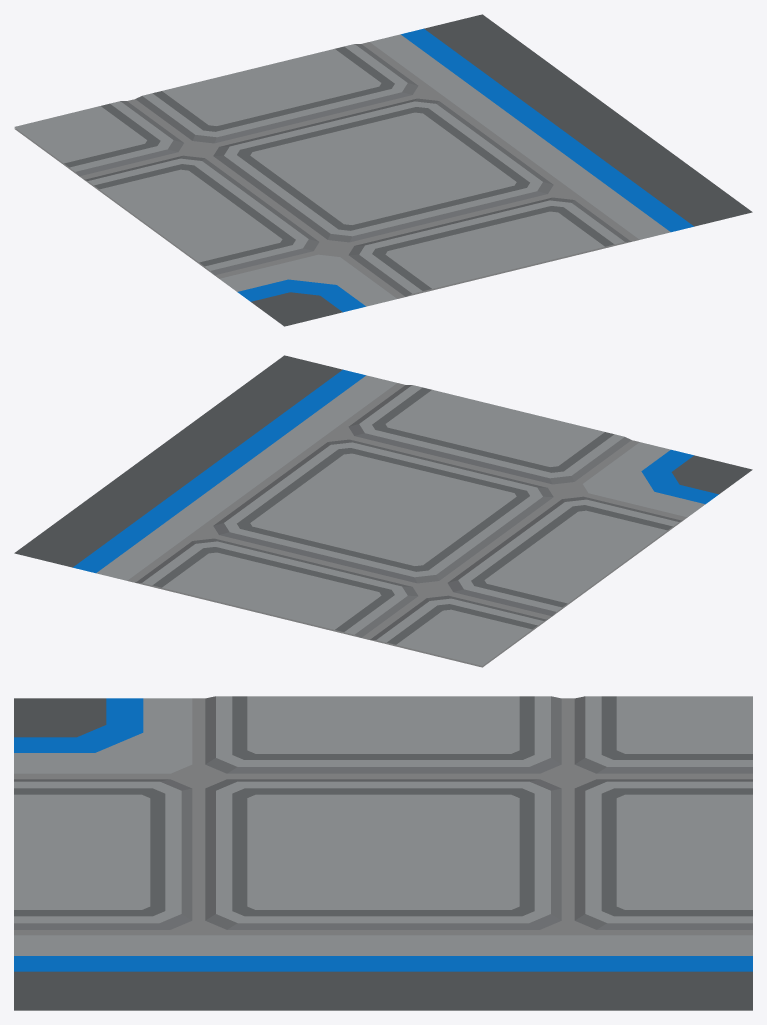
Rendered from Floor_type_B_037.glb.
3 renders of one model, top to bottom at view 1: azimuth 30°, elevation 25°; view 2: azimuth 150°, elevation 25°; view 3: azimuth 270°, elevation 25°, orthographic. The views are drawn at different scales.
Parts seen in each view (by area): view 1: Floor_type_B_037; view 2: Floor_type_B_037; view 3: Floor_type_B_037.
Boxes of the visible parts, x1,y1,x2,y2 form: Floor_type_B_037: (14,14,752,326); Floor_type_B_037: (14,355,752,667); Floor_type_B_037: (14,696,752,1010).
Bounding box in the file's own units: 4 × 0.0134 × 4.
2 materials, 2 textured.
